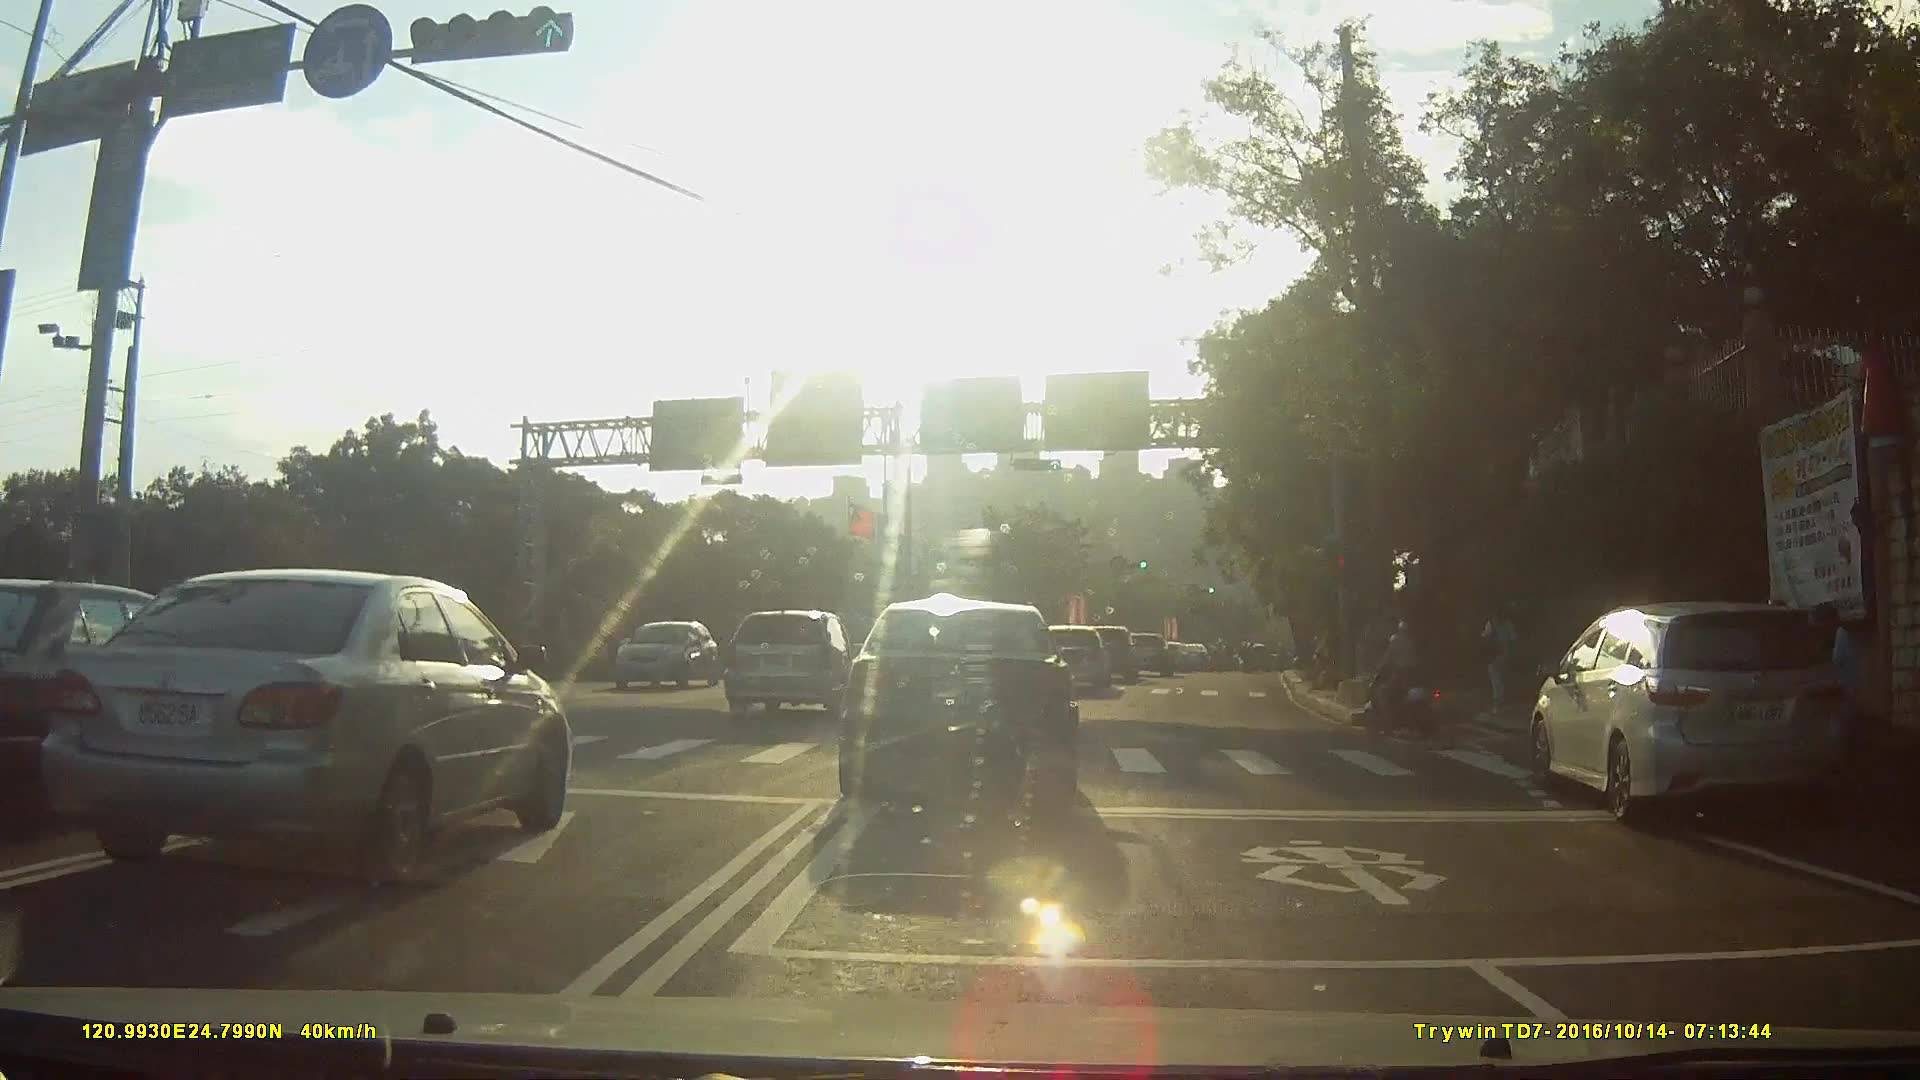pedestrian: (1814, 598, 1880, 736), (1479, 594, 1529, 718)
rider: (1363, 616, 1460, 741)
vehicle: (48, 567, 585, 883), (1512, 593, 1845, 841), (829, 598, 1097, 816), (1, 569, 209, 833), (732, 603, 876, 713), (609, 618, 737, 696), (1047, 623, 1121, 693), (1086, 620, 1148, 678), (1127, 628, 1185, 674), (1186, 639, 1220, 667)
